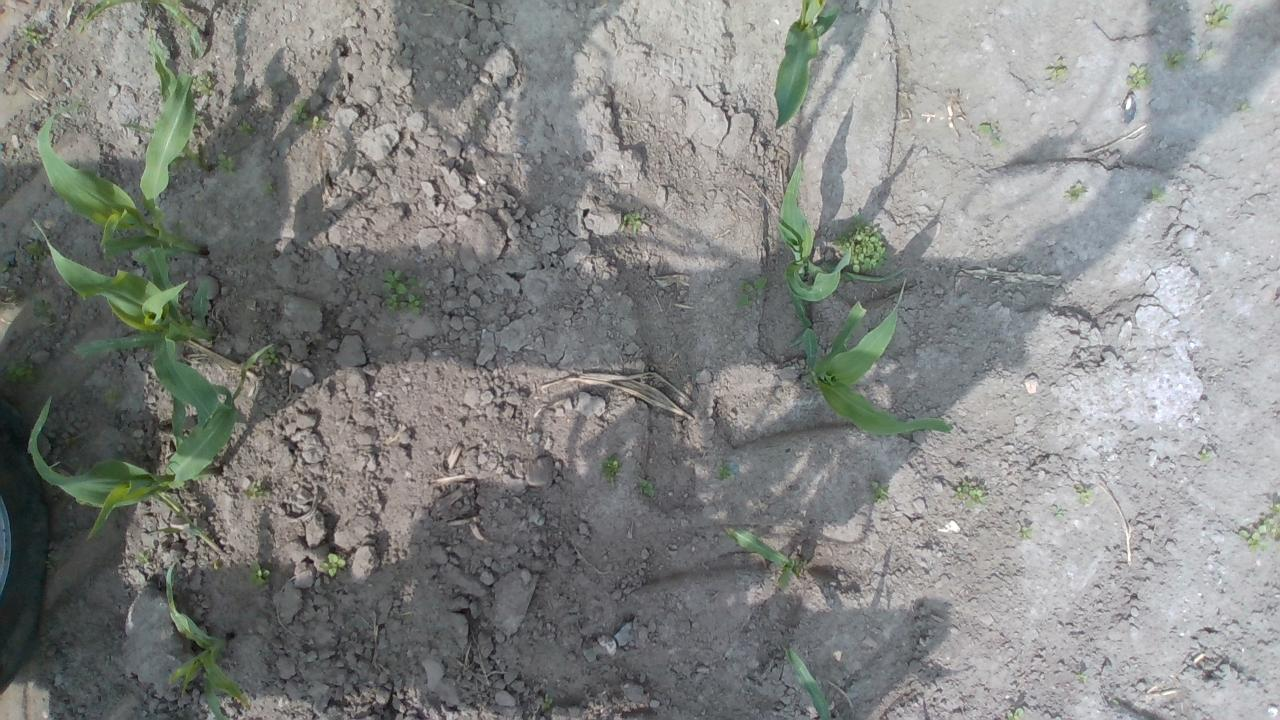Maize: (27, 341, 273, 541), (34, 28, 202, 316), (28, 217, 230, 428), (774, 149, 909, 347), (800, 276, 959, 437), (161, 560, 248, 720), (772, 0, 839, 131), (78, 0, 204, 58), (723, 524, 802, 590), (780, 646, 833, 720)
Weeds: (832, 213, 889, 274), (380, 269, 424, 317), (288, 97, 328, 128), (0, 352, 37, 382), (736, 276, 768, 310), (952, 481, 988, 510), (1238, 525, 1270, 554), (1204, 0, 1234, 30), (18, 20, 48, 48), (169, 145, 201, 171), (32, 295, 58, 326), (600, 452, 622, 488), (1262, 501, 1280, 541), (246, 561, 272, 588), (320, 552, 346, 578), (1126, 64, 1150, 91), (216, 151, 238, 180), (24, 238, 51, 261), (979, 121, 1001, 148), (1160, 50, 1186, 72), (1044, 60, 1069, 82), (618, 211, 643, 233), (243, 480, 270, 500), (190, 73, 214, 95), (635, 472, 655, 498), (102, 383, 124, 406), (869, 480, 890, 504), (1063, 180, 1087, 201), (172, 218, 192, 238), (1148, 184, 1168, 204), (259, 345, 279, 365), (1076, 485, 1094, 505), (716, 462, 734, 482), (260, 178, 276, 198), (238, 122, 258, 138), (1200, 47, 1216, 64), (793, 559, 809, 575), (1051, 504, 1066, 519), (1005, 707, 1022, 720), (540, 694, 552, 712), (1234, 102, 1252, 114), (1198, 448, 1212, 463), (1019, 525, 1033, 539), (137, 550, 150, 565), (0, 259, 10, 273), (193, 115, 203, 128), (1074, 674, 1088, 682), (479, 118, 487, 126), (1111, 699, 1119, 705)
